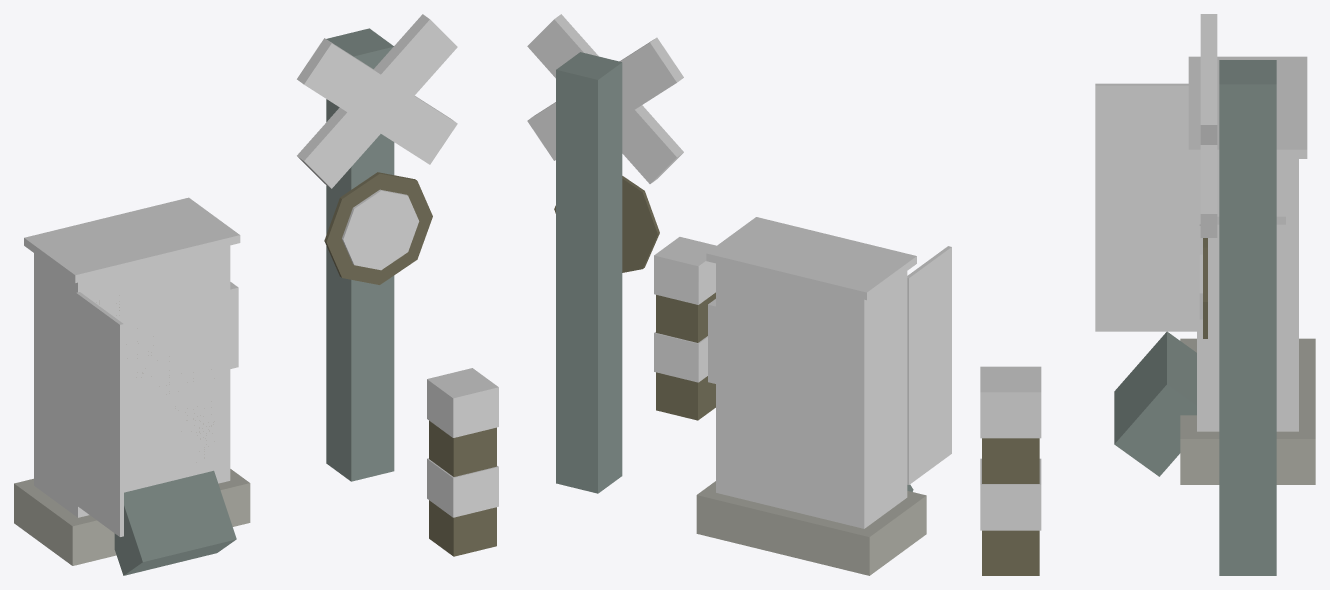
File: SM_ArmarioAdif_v2_Abierto_LOD1.fbx
3 renders of one model, left to right at view 1: azimuth 30°, elevation 25°; view 2: azimuth 150°, elevation 25°; view 3: azimuth 270°, elevation 25°, orthographic. The views are drawn at different scales.
Parts seen in each view (by area): view 1: SM_sagunto_vivo_v12_LOD1; view 2: SM_sagunto_vivo_v12_LOD1; view 3: SM_sagunto_vivo_v12_LOD1.
Part boxes in pixels (left/top/right/bottom): SM_sagunto_vivo_v12_LOD1: left=14, top=14, right=498, bottom=575; SM_sagunto_vivo_v12_LOD1: left=527, top=14, right=951, bottom=575; SM_sagunto_vivo_v12_LOD1: left=980, top=14, right=1315, bottom=575.
Size of the model in its own units: 3.11 by 3.5 by 1.98.
